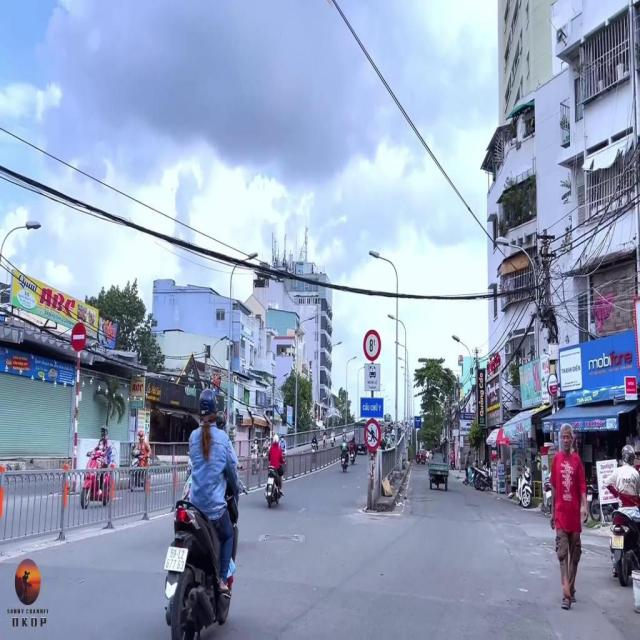cam_xe_di_nguoc_chieu: (72, 322, 86, 350)
khac: (363, 329, 381, 362), (364, 420, 380, 452), (360, 398, 383, 418), (365, 364, 380, 390)
